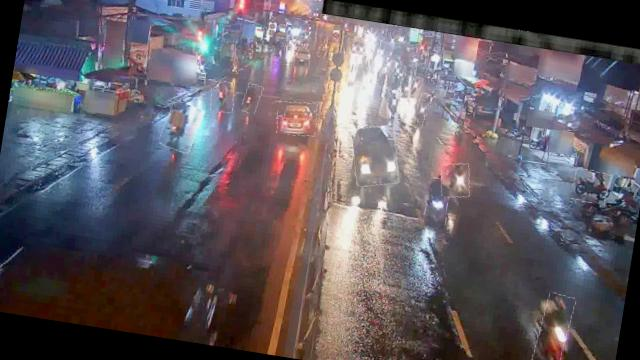Bike: (531, 291, 574, 360), (160, 99, 203, 154), (570, 168, 610, 205), (422, 176, 452, 224), (438, 161, 473, 199), (208, 80, 236, 114), (412, 91, 430, 129), (384, 89, 404, 121), (242, 83, 262, 114), (398, 75, 412, 98), (409, 76, 423, 96)
Car: (346, 122, 404, 190), (274, 99, 319, 138)
